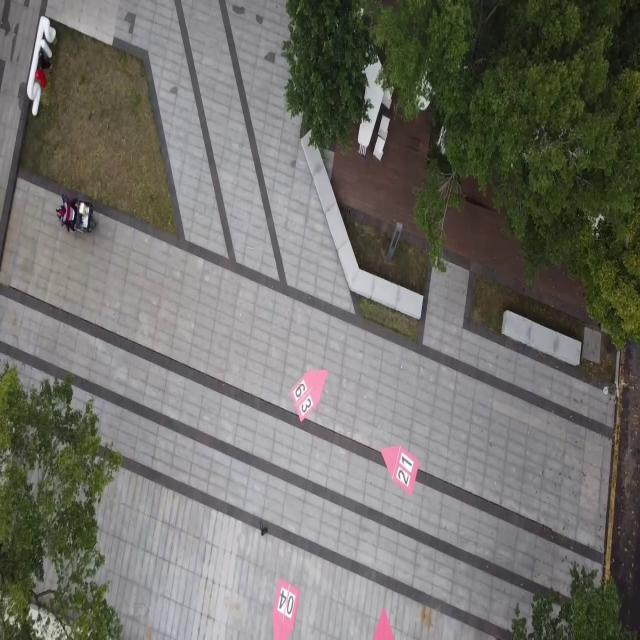-sign-: (261, 575, 320, 640), (377, 430, 424, 499), (290, 367, 328, 424)
